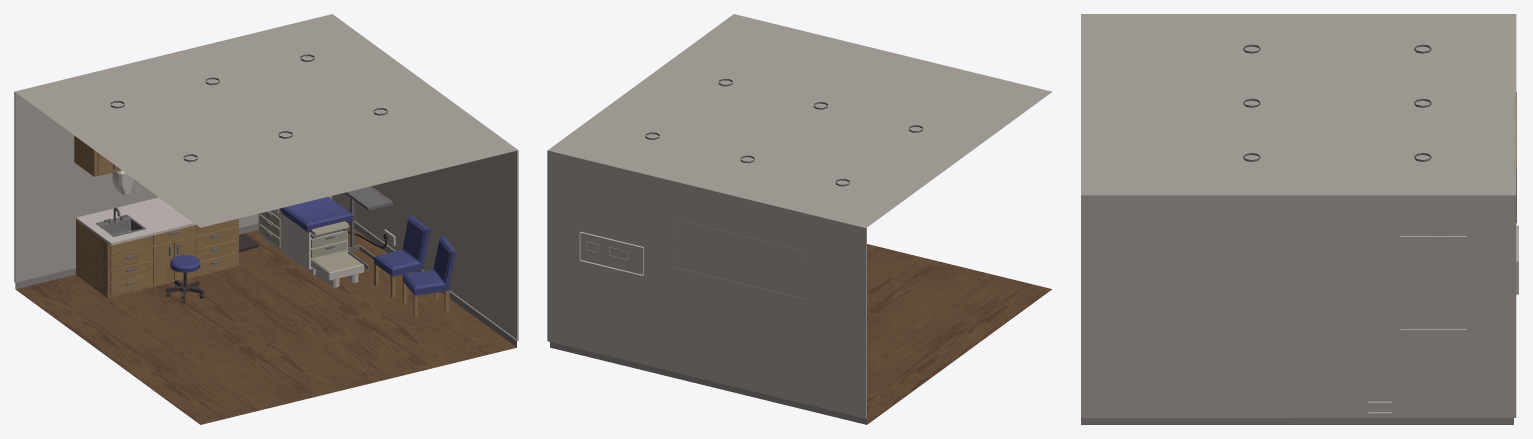
The model's file is doctors_office.glb.
The picture shows the model from 3 angles, left to right: view 1: azimuth 30°, elevation 25°; view 2: azimuth 150°, elevation 25°; view 3: azimuth 270°, elevation 25°; orthographic projection. The views are drawn at different scales.
Parts seen in each view (by area): view 1: DoctorsOffice, Counter, Bed, Chair, Chair2, Table, Cupboards, Stool; view 2: DoctorsOffice; view 3: DoctorsOffice, Lights.
Boxes of the visible parts, box(x1,y1,x2,y2) form: DoctorsOffice: box(14, 14, 518, 424); Counter: box(76, 197, 238, 298); Bed: box(258, 197, 364, 287); Chair: box(374, 216, 430, 298); Chair2: box(402, 236, 456, 317); Table: box(344, 186, 392, 268); Cupboards: box(74, 136, 121, 176); Stool: box(165, 255, 204, 302); DoctorsOffice: box(547, 14, 1052, 424); DoctorsOffice: box(1081, 14, 1518, 424); Lights: box(1243, 44, 1431, 161).
Bounding box in the file's own units: 2.02 × 1.21 × 2.05.
Materials: 1 (1 with a texture image).
